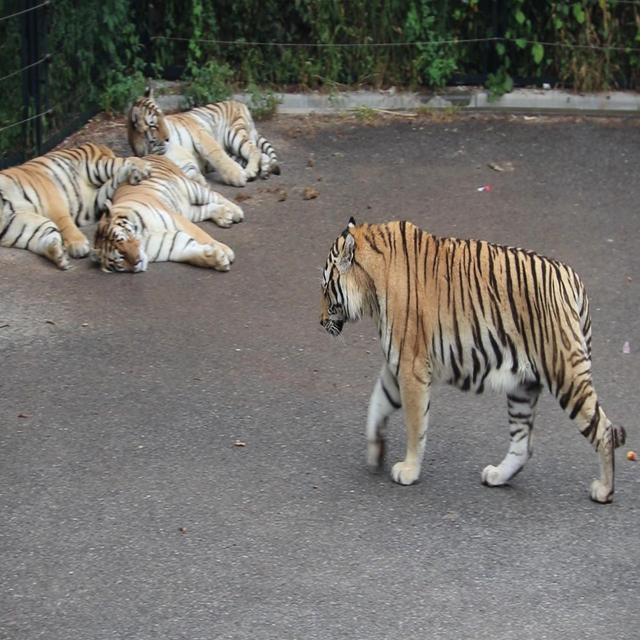tiger: (318, 214, 626, 504), (0, 140, 150, 271), (89, 151, 244, 273), (125, 86, 280, 187)
